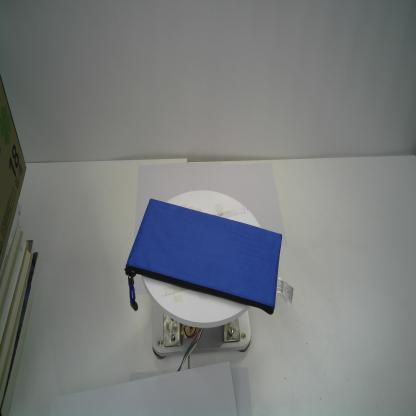Stationery: (124, 198, 283, 316)
